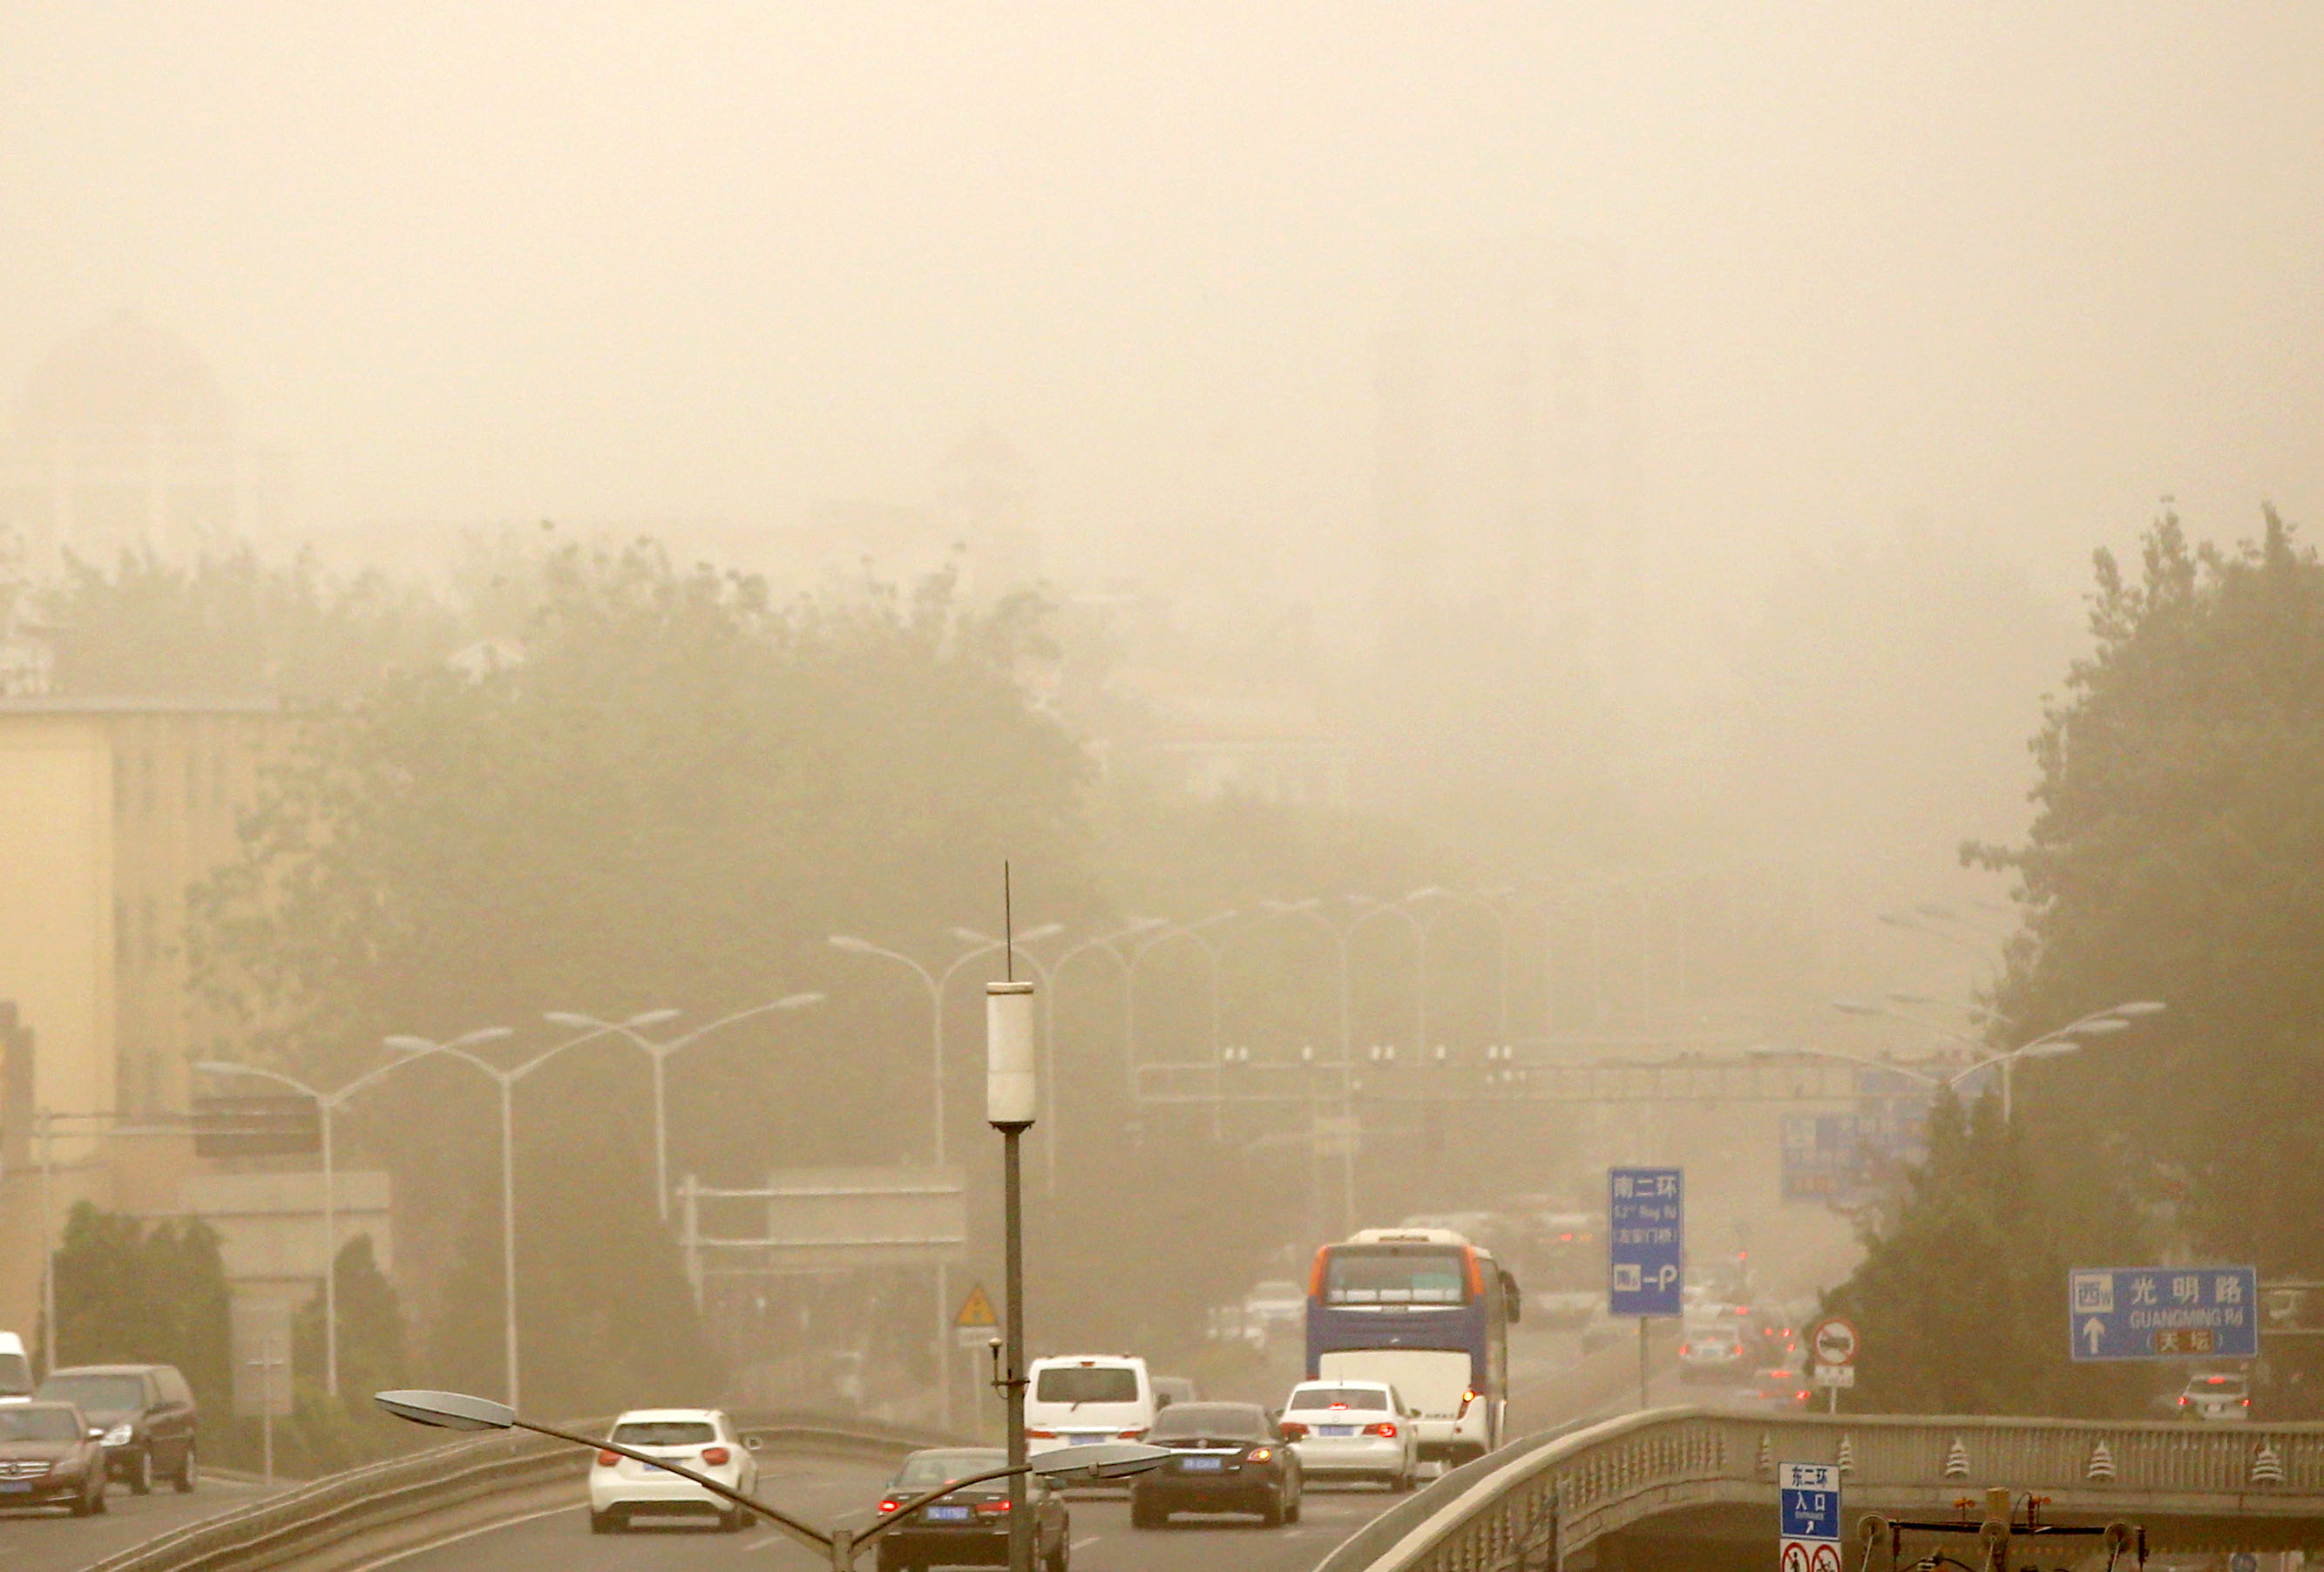bus: (1308, 1228, 1519, 1461), (1494, 1207, 1612, 1319)
car: (845, 1453, 1114, 1572), (586, 1405, 763, 1532), (40, 1363, 198, 1497), (1126, 1423, 1307, 1530), (1023, 1358, 1149, 1486), (1277, 1379, 1419, 1491), (0, 1398, 116, 1519), (1715, 1302, 1789, 1368), (1677, 1325, 1750, 1383), (1251, 1279, 1308, 1337), (2178, 1374, 2249, 1419)
